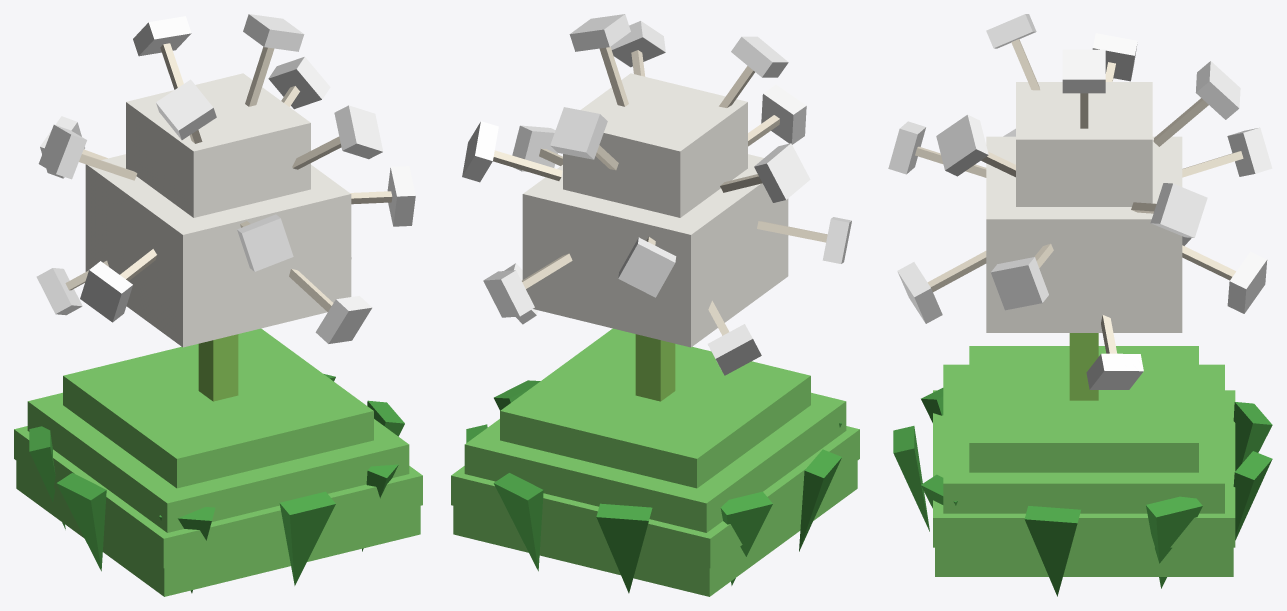
The model's file is dandelion-puff-blocky.glb.
3 renders of one model, left to right at view 1: azimuth 30°, elevation 25°; view 2: azimuth 150°, elevation 25°; view 3: azimuth 270°, elevation 25°, orthographic.
Parts seen in each view (by area): view 1: dandelion-puff; view 2: dandelion-puff; view 3: dandelion-puff.
Part boxes in pixels (left/top/right/bottom): dandelion-puff: left=14, top=14, right=422, bottom=596; dandelion-puff: left=451, top=14, right=859, bottom=596; dandelion-puff: left=888, top=14, right=1272, bottom=596.
Bounding box in the file's own units: 0.1526 × 0.2193 × 0.1518.
